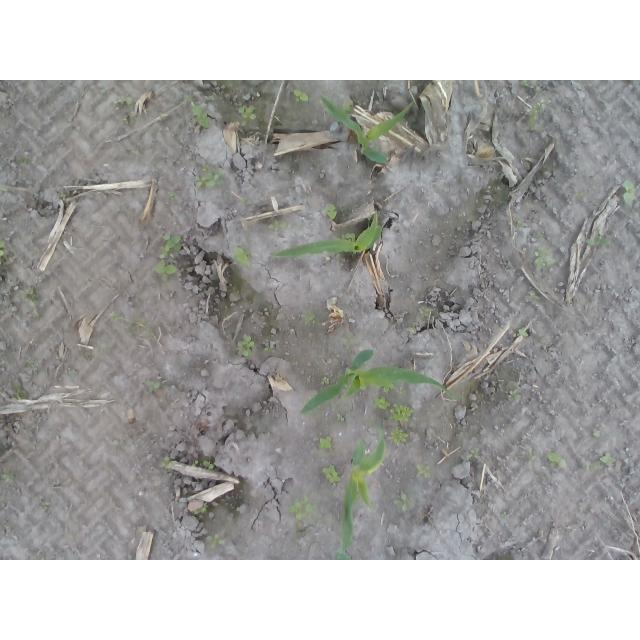Maize: (300, 349, 461, 416), (320, 93, 415, 164), (336, 434, 385, 560), (271, 211, 386, 262)
Weeds: (368, 395, 416, 446), (154, 231, 187, 282), (15, 287, 42, 321), (192, 163, 224, 189), (113, 95, 137, 129), (535, 245, 562, 273), (288, 495, 317, 521), (392, 493, 417, 515), (321, 462, 342, 488), (528, 100, 545, 129), (191, 101, 208, 129), (127, 319, 153, 337), (239, 334, 258, 358), (238, 104, 257, 128), (231, 245, 251, 267), (545, 450, 568, 467), (207, 532, 226, 551), (267, 218, 289, 234), (623, 179, 637, 204), (293, 88, 312, 105), (144, 378, 161, 396), (416, 463, 433, 480), (323, 202, 337, 220), (527, 448, 537, 473), (1, 472, 20, 485), (14, 384, 29, 400), (303, 310, 317, 327), (510, 383, 522, 402), (194, 505, 209, 520), (318, 435, 334, 449), (599, 454, 618, 465), (0, 239, 8, 265), (528, 288, 541, 304), (586, 238, 611, 246), (338, 232, 356, 243), (24, 358, 41, 369), (418, 305, 430, 320), (247, 80, 257, 97), (258, 306, 271, 318), (468, 446, 480, 459), (161, 456, 172, 470), (532, 80, 541, 97), (582, 463, 600, 471), (381, 383, 395, 393), (111, 311, 125, 321), (341, 102, 353, 113), (203, 459, 216, 469), (319, 376, 333, 385), (518, 326, 529, 337), (399, 387, 409, 399), (264, 342, 273, 354), (67, 367, 77, 377), (167, 191, 177, 201), (335, 413, 345, 423), (407, 323, 417, 333), (535, 231, 545, 241), (0, 183, 10, 193), (467, 216, 478, 225), (16, 159, 30, 166), (40, 502, 49, 512), (204, 95, 216, 102), (512, 216, 521, 225), (59, 192, 68, 201), (240, 196, 249, 205), (592, 430, 600, 439), (519, 81, 529, 88), (576, 192, 584, 200), (344, 384, 352, 391), (496, 171, 505, 177), (192, 461, 200, 467)
